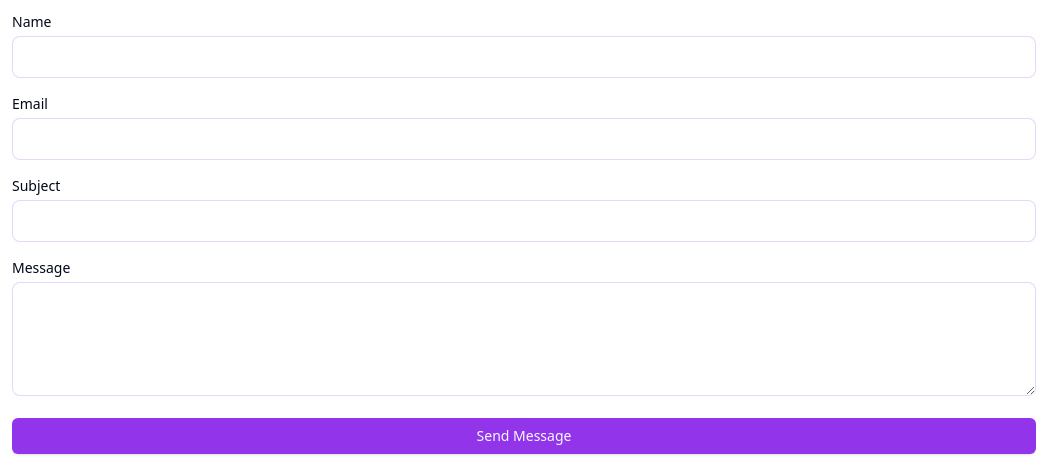
Test: ContactForm Security Tests › Form Submission › shows loading state during submission
The width and height of the screenshot is (1048, 472).
In the field with test id "name-input": (524, 57) [12,36,1036,78], type "John Doe"
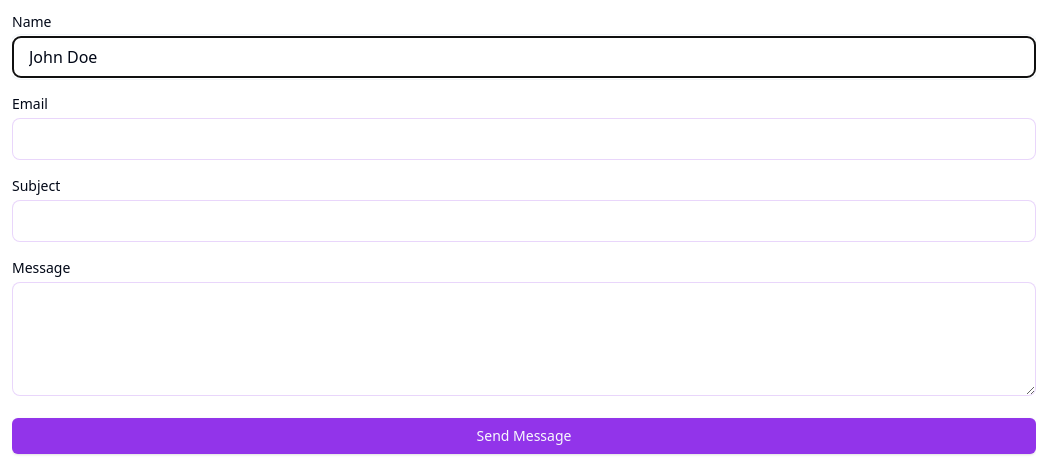
In the field with test id "email-input": (524, 139) [12,118,1036,160], type "john@example.com"
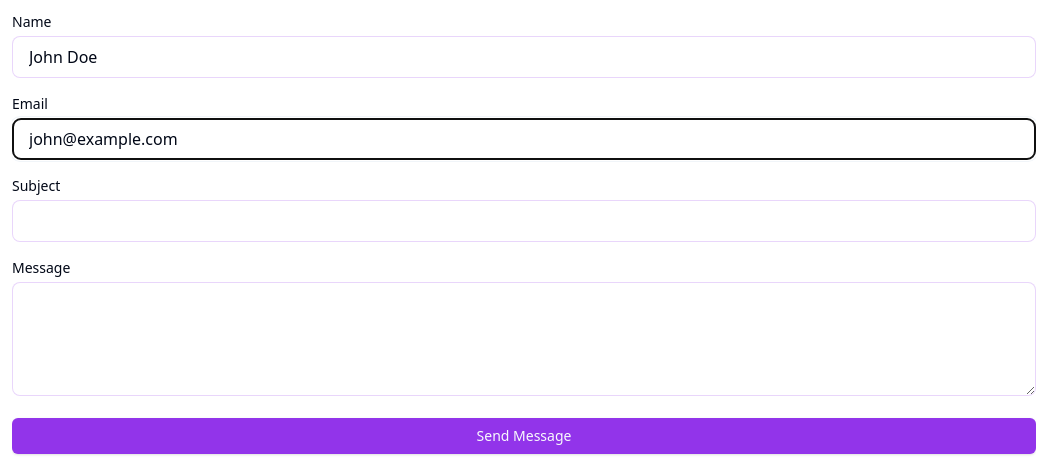
In the field with test id "subject-input": (524, 221) [12,200,1036,242], type "Test Subject"
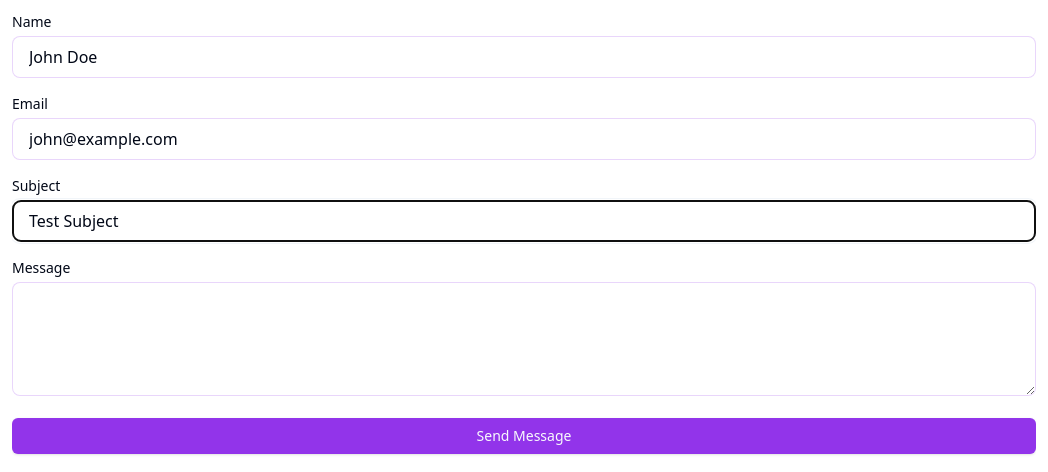
In the text box with test id "message-input": (524, 339) [12,282,1036,396], type "Test message content"
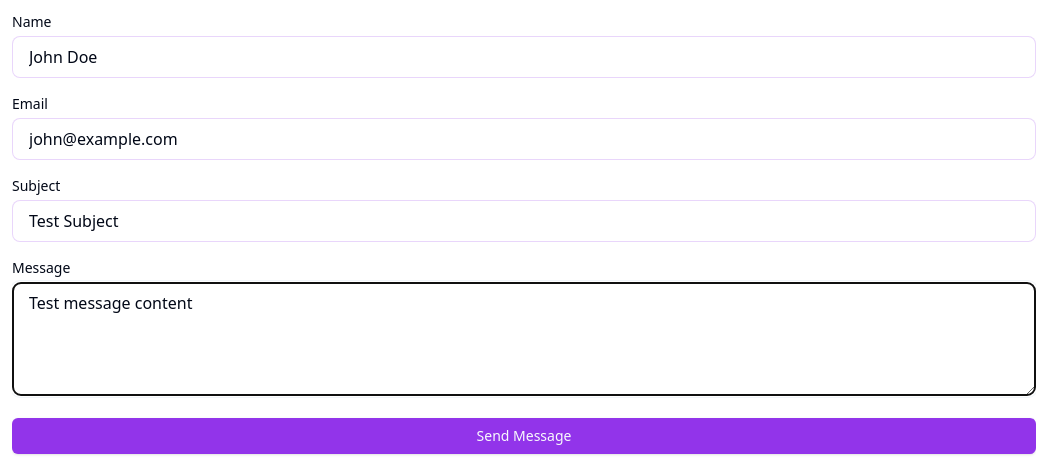
Click the button with test id "submit-button": (524, 436) [12,418,1036,454]
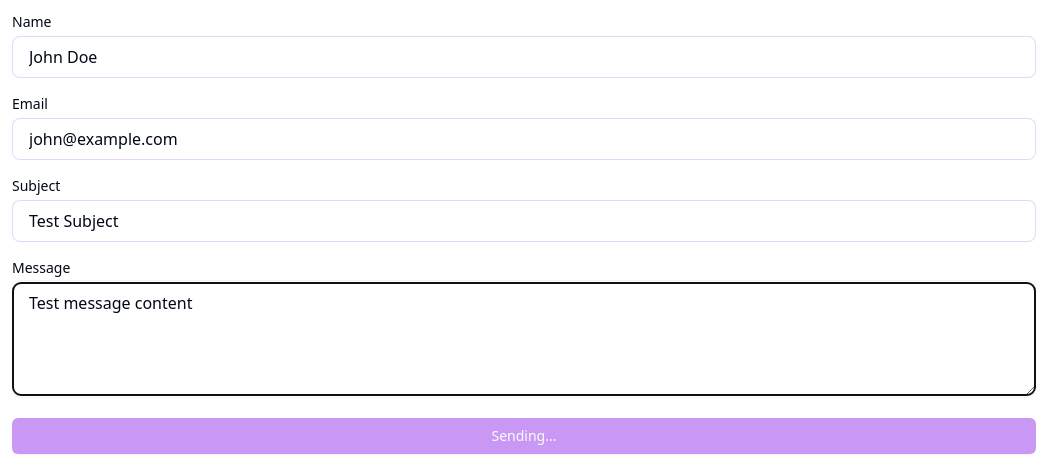
Expected: the button with test id "submit-button" reads "Sending...", [12,418,1036,454]
Expected: the button with test id "submit-button" is disabled, [12,418,1036,454]
